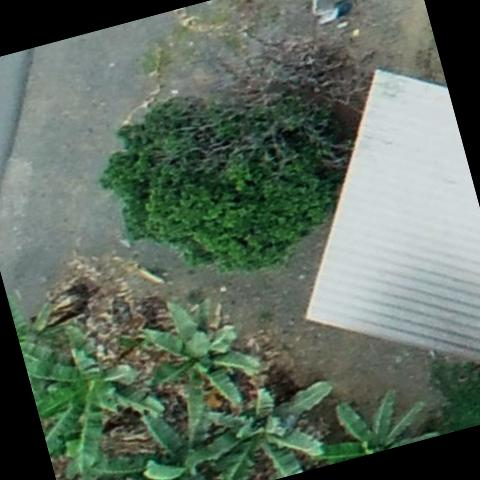Banana-plant: (15, 294, 176, 480), (110, 276, 276, 452), (198, 362, 355, 480), (74, 382, 246, 480), (296, 369, 442, 469)
